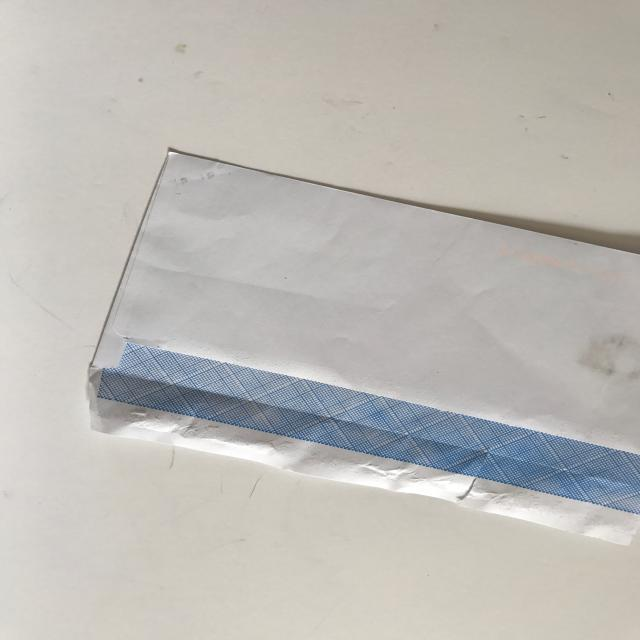paper: (84, 148, 640, 556)
